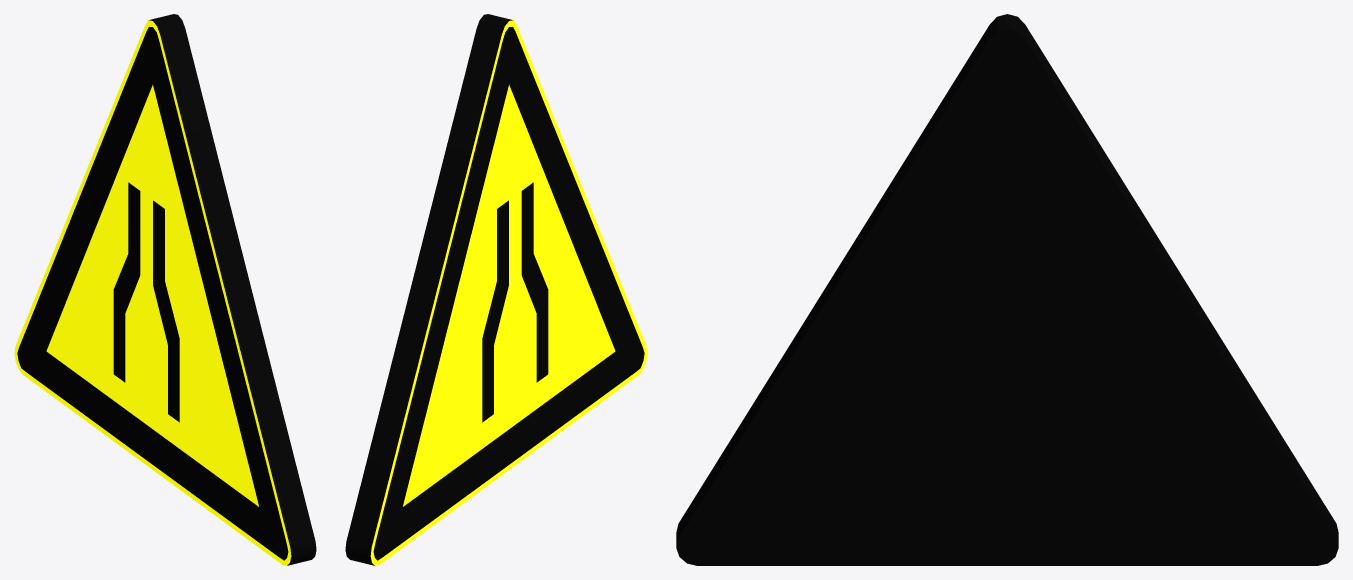
The model's file is Narrow_Road_BothSide.glb.
3 views of the same model, side by side, from view 1: azimuth 30°, elevation 25°; view 2: azimuth 150°, elevation 25°; view 3: azimuth 270°, elevation 25° (orthographic). The views are drawn at different scales.
Parts seen in each view (by area): view 1: Narrow_Road_BothSide; view 2: Narrow_Road_BothSide; view 3: Narrow_Road_BothSide.
Boxes of the visible parts, <box> form: Narrow_Road_BothSide: <box>14,14,316,565</box>; Narrow_Road_BothSide: <box>345,14,647,565</box>; Narrow_Road_BothSide: <box>676,14,1338,565</box>.
Size of the model in its own units: 0.075 by 1.02 by 1.14.
